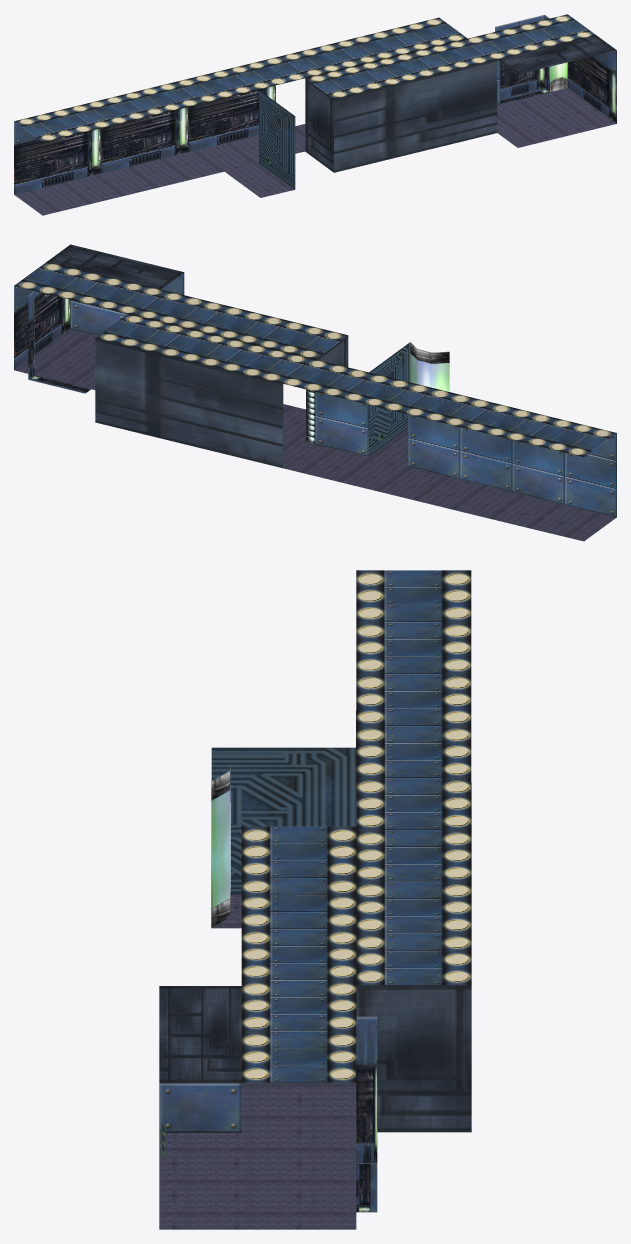
The picture shows the model from 3 angles, top to bottom: view 1: azimuth 30°, elevation 25°; view 2: azimuth 150°, elevation 25°; view 3: azimuth 270°, elevation 25°; orthographic projection. The views are drawn at different scales.
Parts seen in each view (by area): view 1: 1; view 2: 1; view 3: 1.
Boxes of the visible parts, x1=… form: 1: x1=14, y1=14, x2=616, y2=215; 1: x1=14, y1=244, x2=616, y2=541; 1: x1=159, y1=570, x2=471, y2=1229.
Bounding box in the file's own units: 5440 × 728 × 1400.
Materials: 9 (9 with a texture image).
